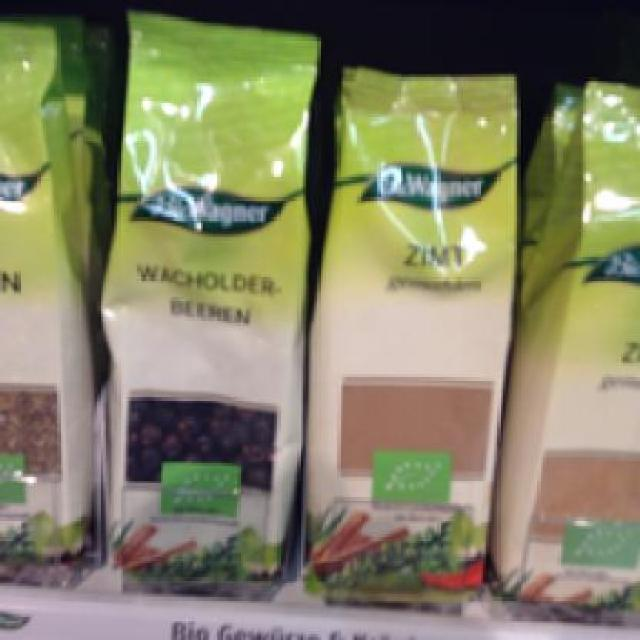Spices: (94, 6, 317, 583), (308, 60, 518, 606), (505, 77, 638, 603)
